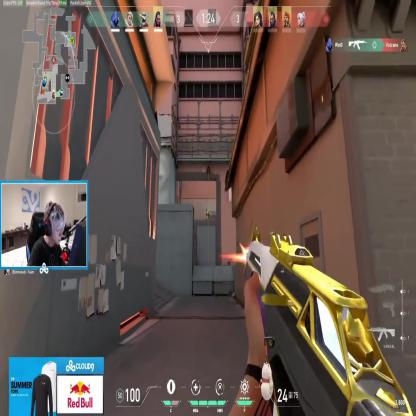enemy: (206, 207, 209, 220)
enemy_head: (207, 208, 208, 211)
